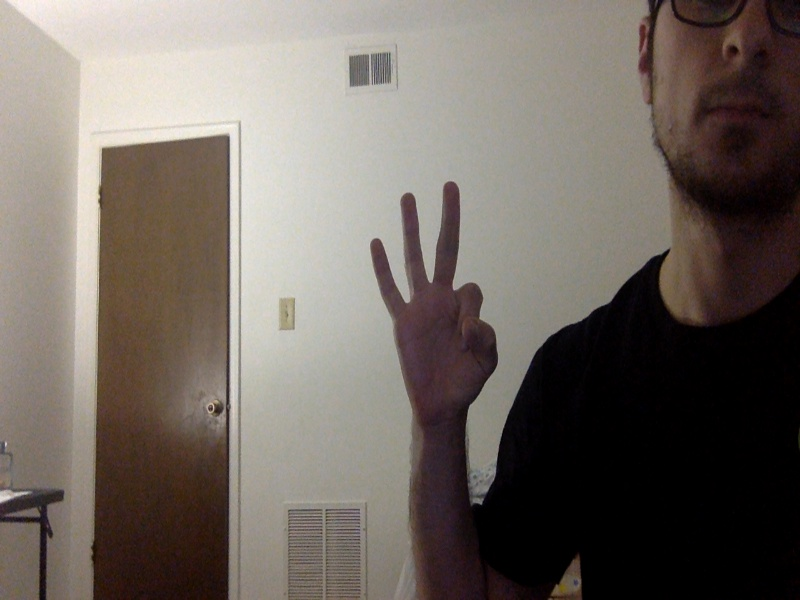3-hand: (369, 180, 498, 432)
